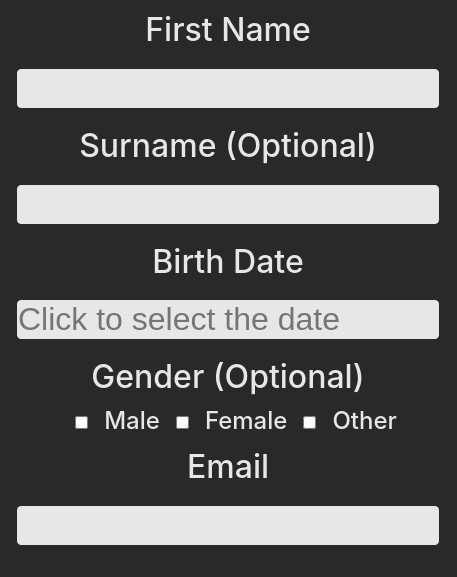
Test case: PersonForm › firstName Field › should show error when input text is shorter than 3 characters
Type "Jo" into the field labelled "first name" at (228, 88), box [17, 69, 439, 108]
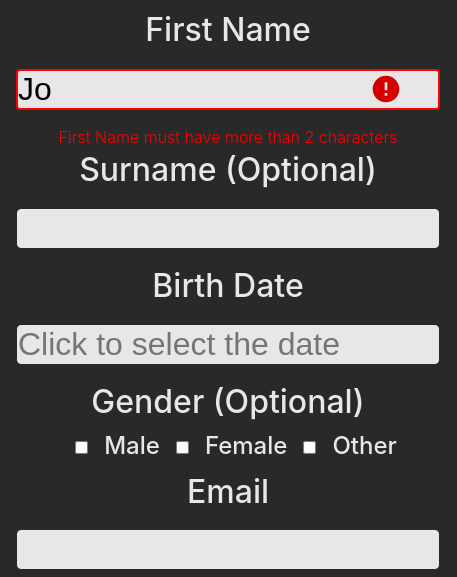
expect the text "First Name must have more than 2 characters" is shown: met, box [59, 126, 397, 148]
expect the text with test id "firstNameError" reads "First Name must have more than 2 characters": met, box [59, 127, 397, 147]
